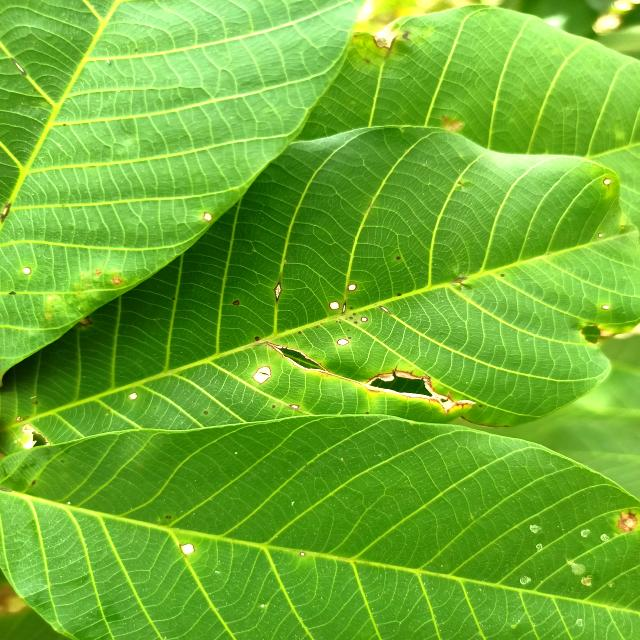Colletotrichum: (329, 301, 340, 310), (337, 338, 349, 346), (22, 266, 32, 275), (603, 178, 611, 186), (130, 392, 138, 400), (348, 284, 357, 291), (602, 304, 610, 310), (232, 300, 240, 305), (361, 317, 368, 322), (255, 336, 260, 341), (166, 515, 172, 519), (396, 256, 401, 260), (300, 552, 305, 556), (478, 404, 482, 408), (500, 274, 505, 277), (298, 331, 302, 334), (354, 321, 358, 324), (397, 293, 401, 296), (272, 405, 276, 408), (204, 411, 208, 414), (349, 317, 353, 319), (352, 313, 356, 315), (348, 337, 351, 339), (350, 307, 353, 309), (366, 412, 369, 414), (347, 330, 350, 331)
Leaf-Blight: (371, 25, 396, 50), (22, 424, 37, 449), (621, 513, 638, 532)
